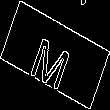M_NE: (31, 23, 79, 87)
